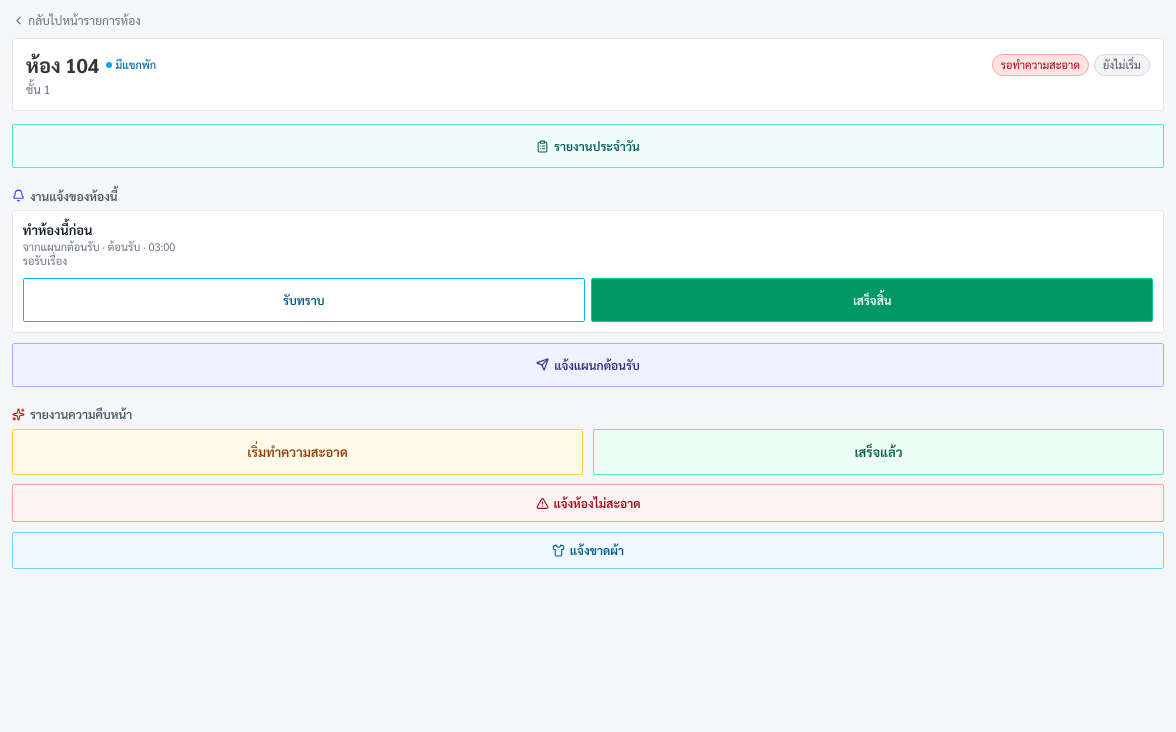
Test: maid — desk→maid signals › เสร็จสิ้น completes it and it leaves the screen
Expected: the heading "ห้อง 104" is shown, [26, 52, 99, 78]
Click the button "เสร็จสิ้น" at (872, 300), box [591, 278, 1153, 322]
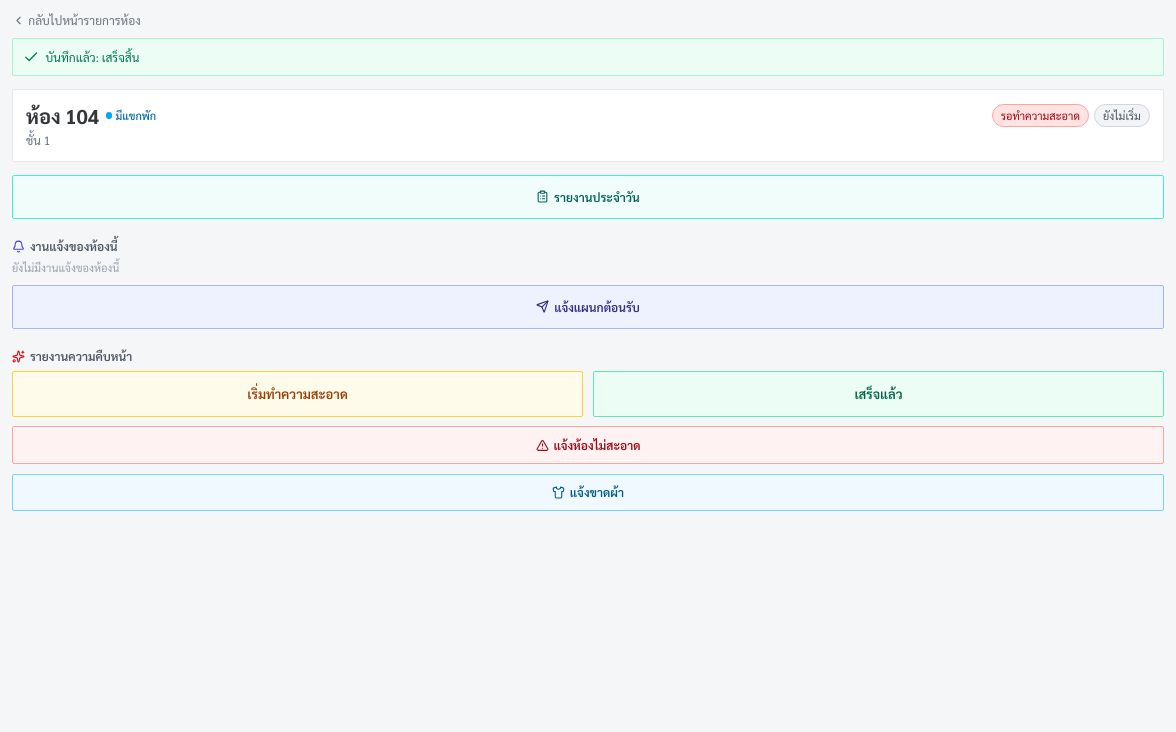
Result: the list item with test id "hk-signal-1" is gone
Result: the text "บันทึกแล้ว: เสร็จสิ้น" is shown at [46, 49, 139, 65]
